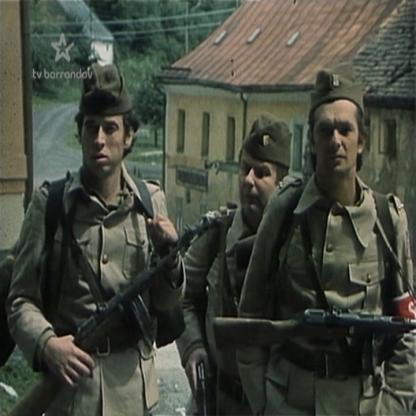gun: (4, 188, 243, 416), (212, 297, 416, 366)
